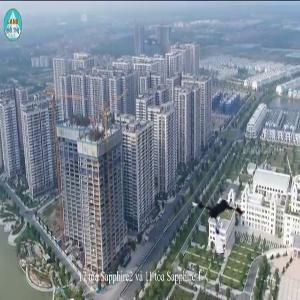drone: (190, 184, 262, 256)
